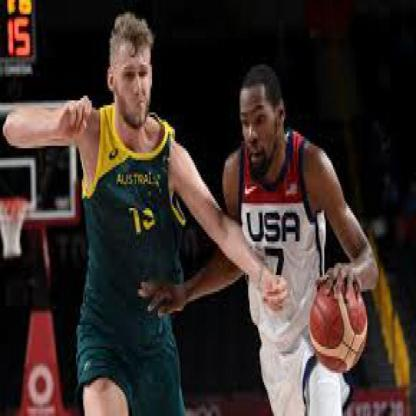basketball: (310, 280, 367, 373)
